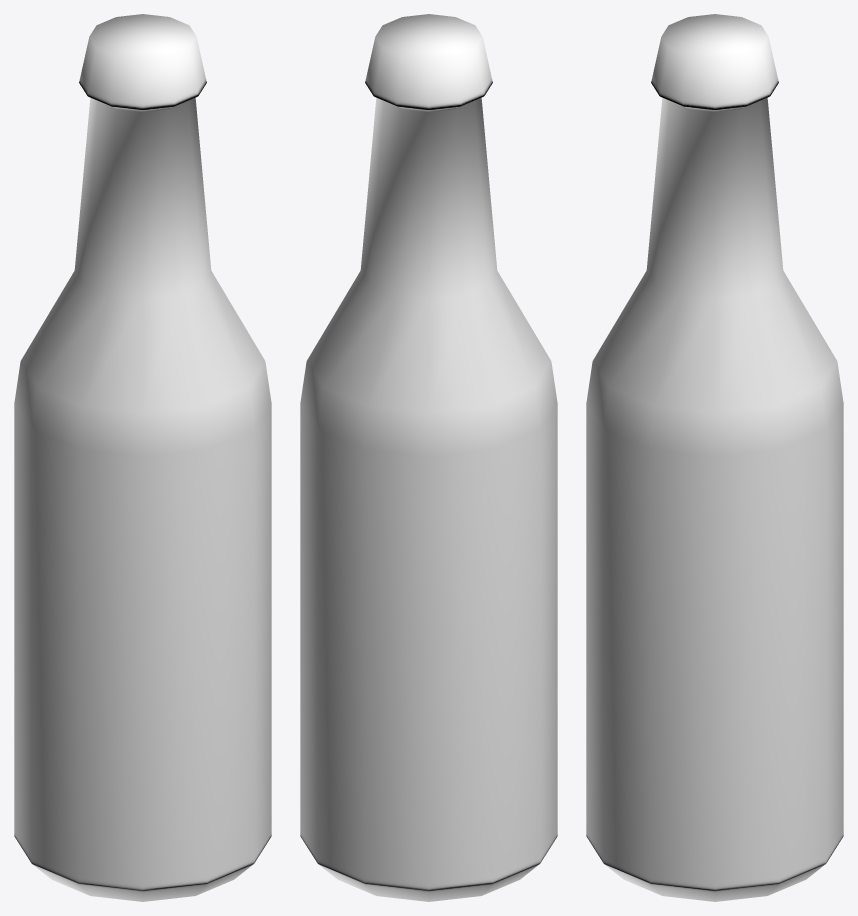
The model's file is Bottle_mesh.fbx.
The picture shows the model from 3 angles, left to right: view 1: azimuth 30°, elevation 25°; view 2: azimuth 150°, elevation 25°; view 3: azimuth 270°, elevation 25°; orthographic projection.
Visible parts, largest first — view 1: Bottle.001; view 2: Bottle.001; view 3: Bottle.001.
Part boxes in pixels (x1,y1,x2,y2): Bottle.001: [14, 14, 271, 901]; Bottle.001: [300, 14, 557, 901]; Bottle.001: [586, 14, 843, 901].
Bounding box in the file's own units: 7.93 × 27.94 × 7.93.
1 material, 1 textured.
